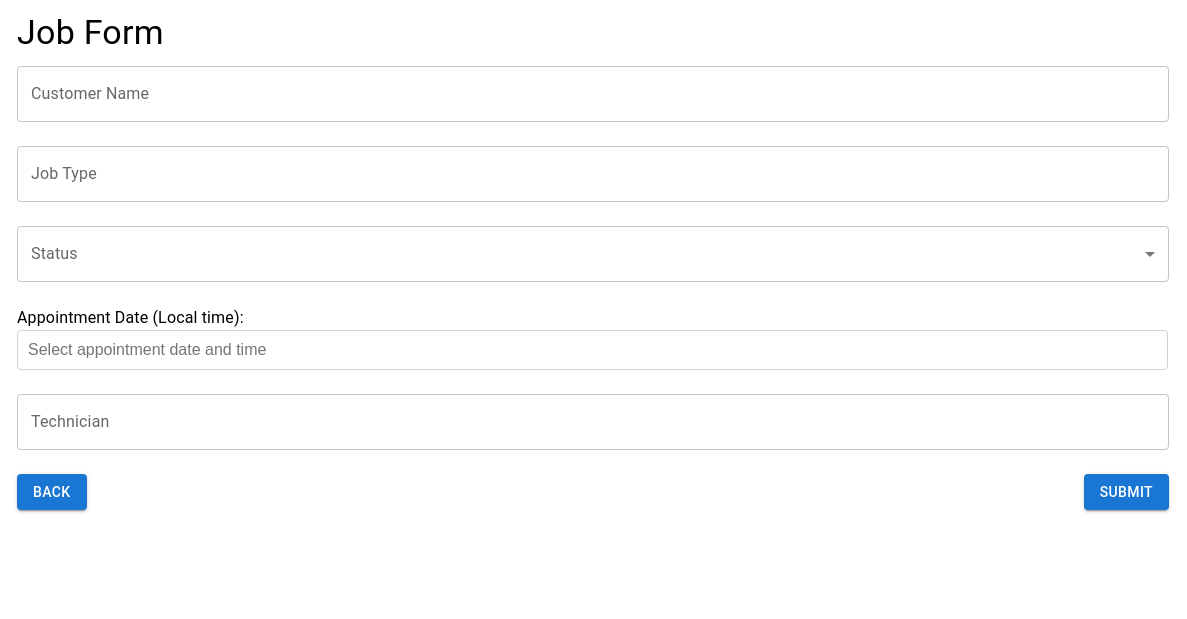
Test: JobForm Component › displays error messages for required fields
This screenshot has width=1187, height=619.
Click the button "Submit". click: (1126,492)
box: [1084,474,1169,510]
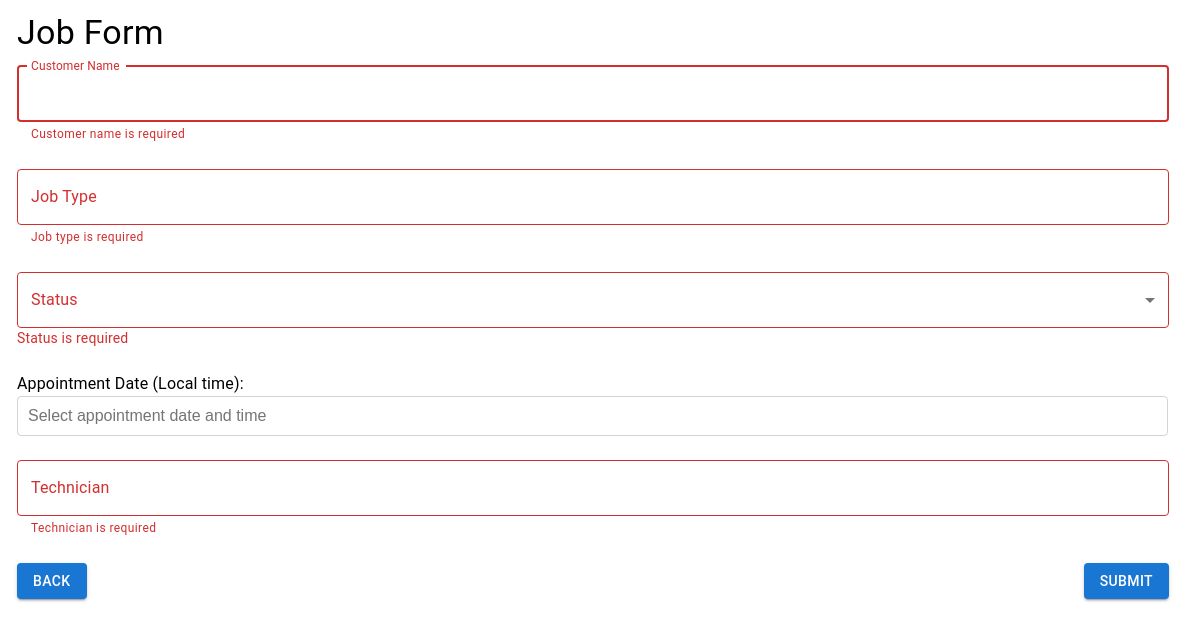
Now the text "Customer name is required" is shown, box [31,127,185,141]
Now the text "Job type is required" is shown, box [31,230,144,244]
Now the text "Status is required" is shown, box [17,330,128,346]
